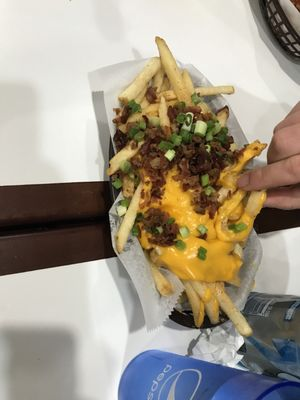sandwich: (106, 92, 271, 337)
